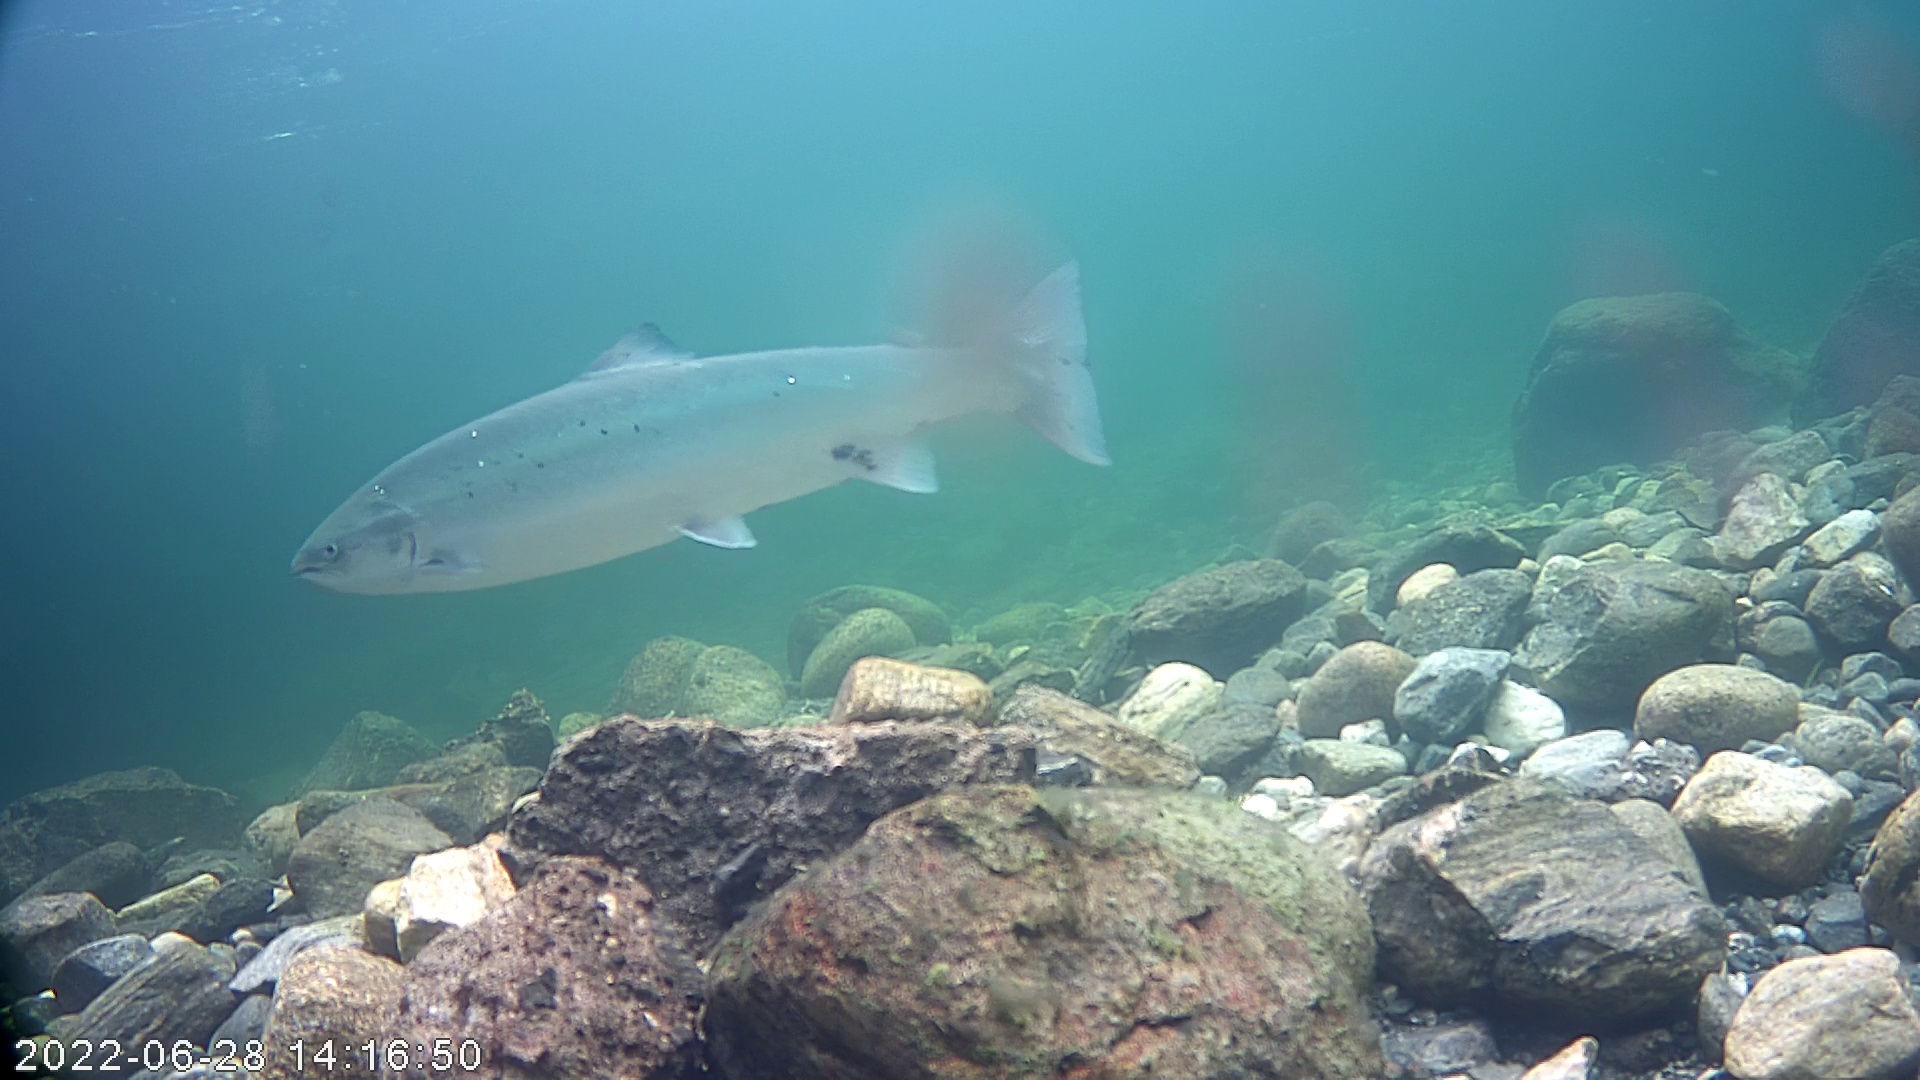salmon: (273, 218, 1127, 629)
